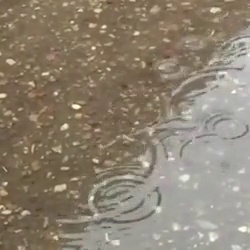drop: (90, 168, 161, 224), (171, 67, 245, 113), (184, 133, 226, 170), (206, 113, 249, 140), (156, 59, 182, 77), (181, 36, 206, 52)
